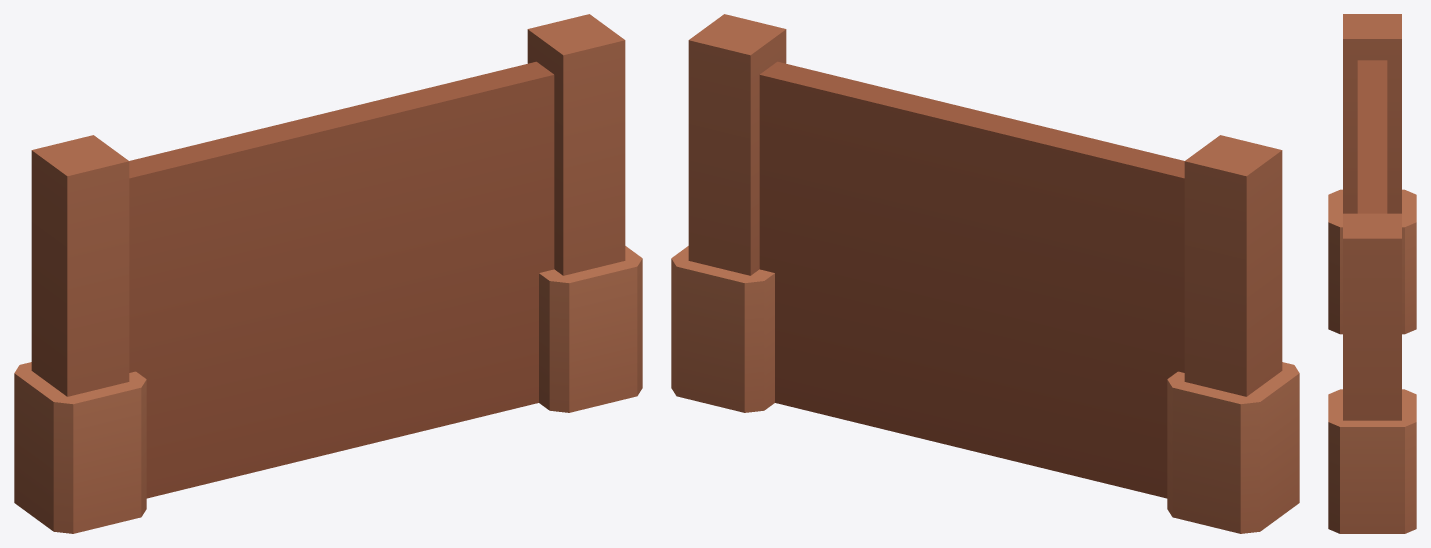
File: fence-high.glb
3 renders of one model, left to right at view 1: azimuth 30°, elevation 25°; view 2: azimuth 150°, elevation 25°; view 3: azimuth 270°, elevation 25°, orthographic. The views are drawn at different scales.
Size of the model in its own units: 0.475 by 0.27 by 0.075.
